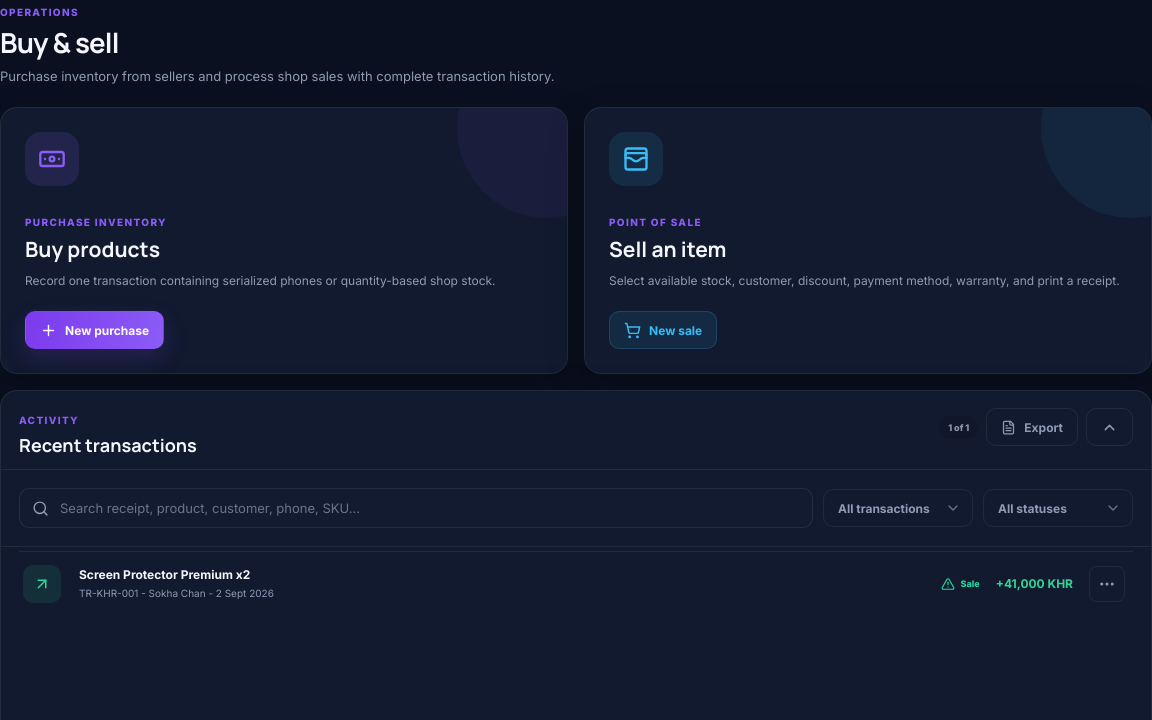
Test case: TradePage feature integration › renders KHR transactions, notes, and refund details with restored stock disposition
The width and height of the screenshot is (1152, 720).
Expected: the text "TR-KHR-001 - Sokha Chan - 2 Sept 2026" is shown, top-left (79, 587), bottom-right (274, 599)
Expected: the text "+41,000 KHR" is shown, top-left (996, 576), bottom-right (1073, 592)
# Open detail modal
Click the button with aria-label "View TR-KHR-001": (42, 584) top-left (19, 552), bottom-right (1133, 616)
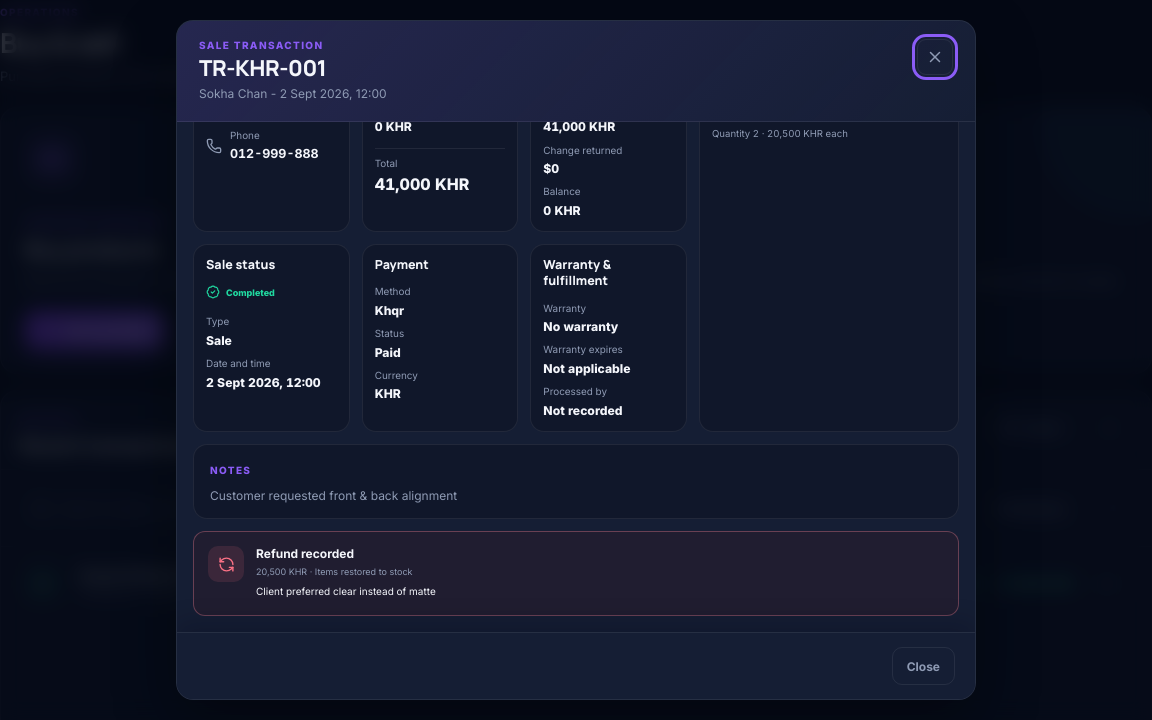
Expected: the dialog is shown
Expected: the text "Notes" is shown, top-left (210, 464), bottom-right (251, 476)
Expected: the text "Customer requested front & back alignment" is shown, top-left (210, 488), bottom-right (457, 503)
